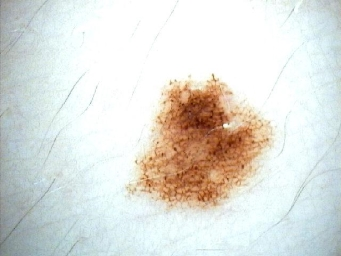nevus: (124, 80, 273, 210)
